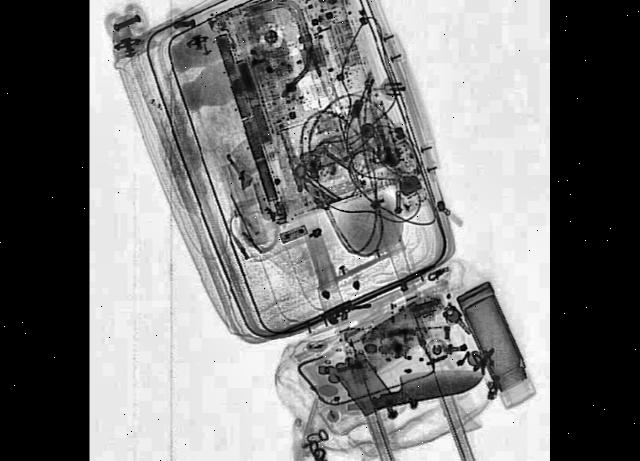Knife: (346, 360, 486, 417)
